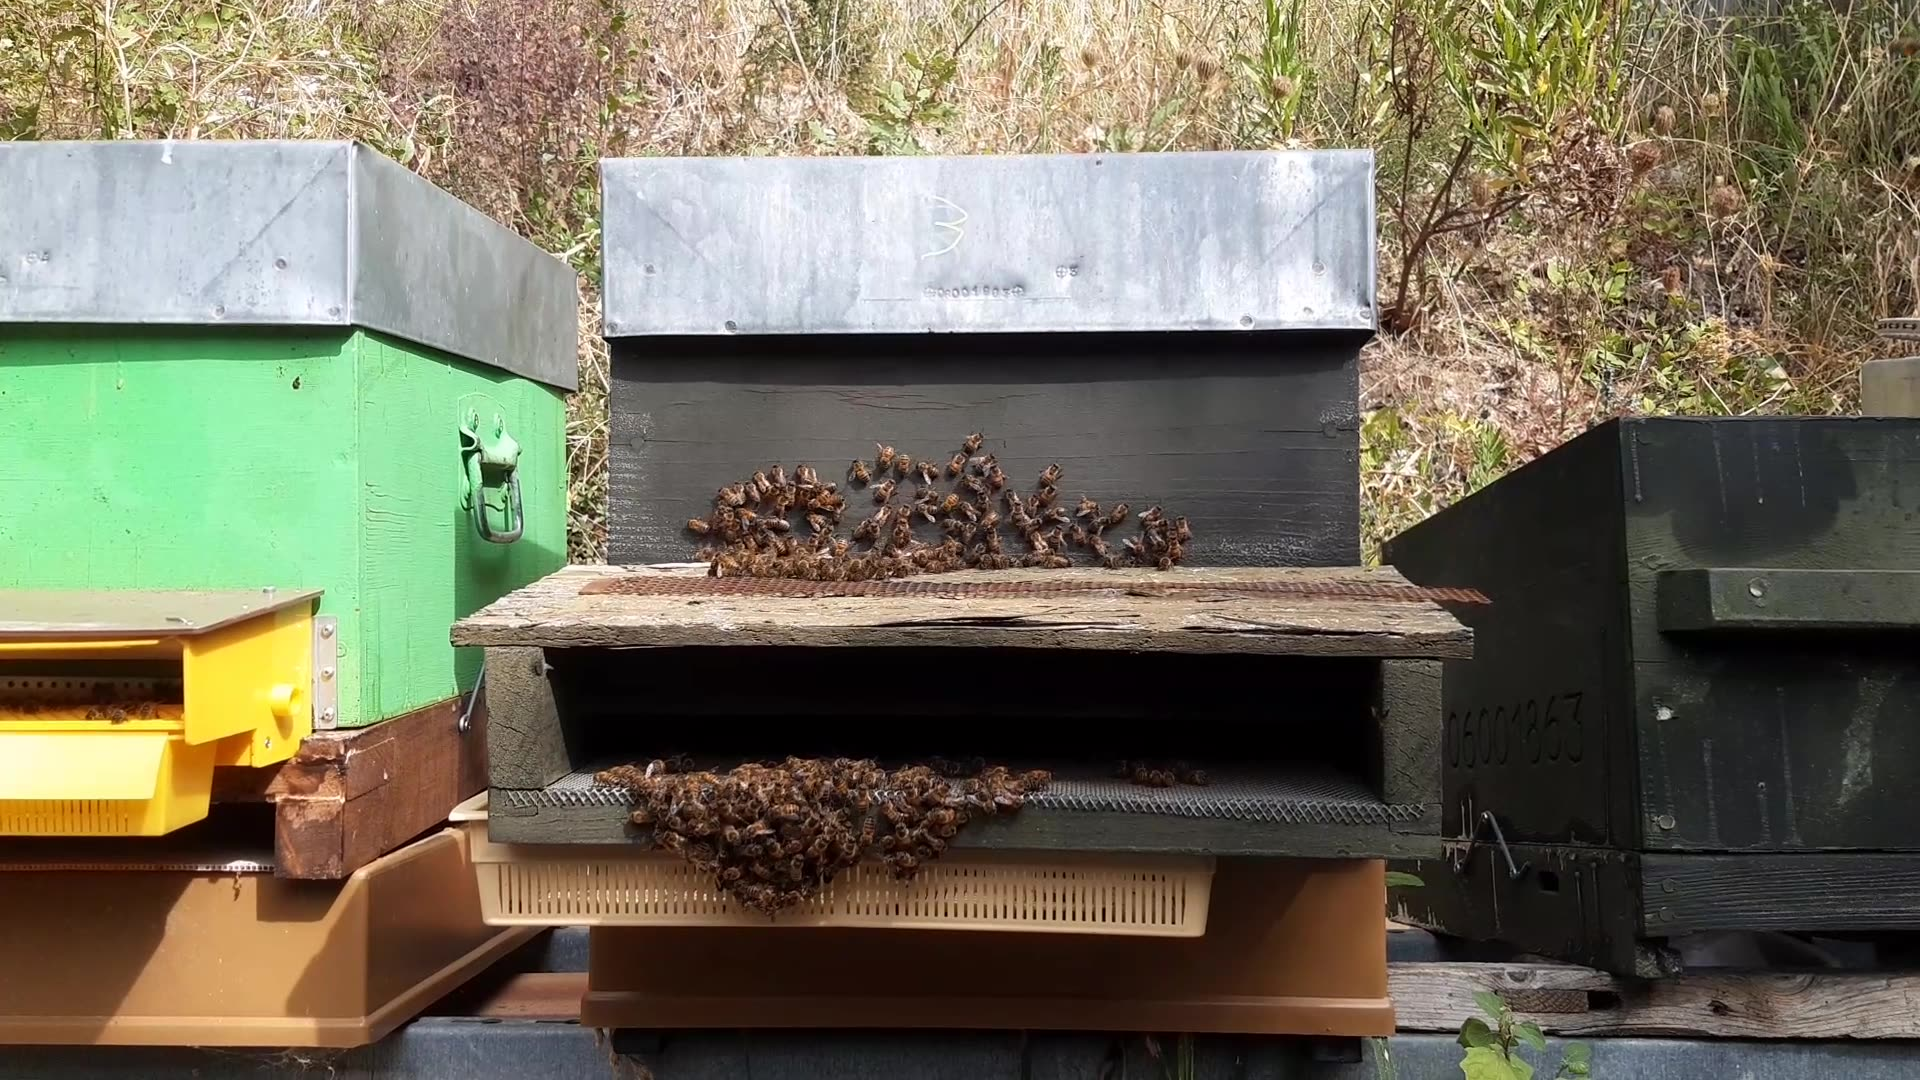bee: (724, 836, 811, 910), (944, 513, 1015, 597), (1108, 506, 1191, 564), (891, 812, 976, 868), (848, 527, 922, 589), (605, 781, 679, 841), (727, 746, 835, 787), (665, 835, 724, 899), (836, 843, 901, 899), (1036, 502, 1104, 556), (724, 521, 793, 574), (737, 469, 804, 521), (865, 450, 931, 498), (953, 451, 1011, 505), (1026, 483, 1065, 529)
